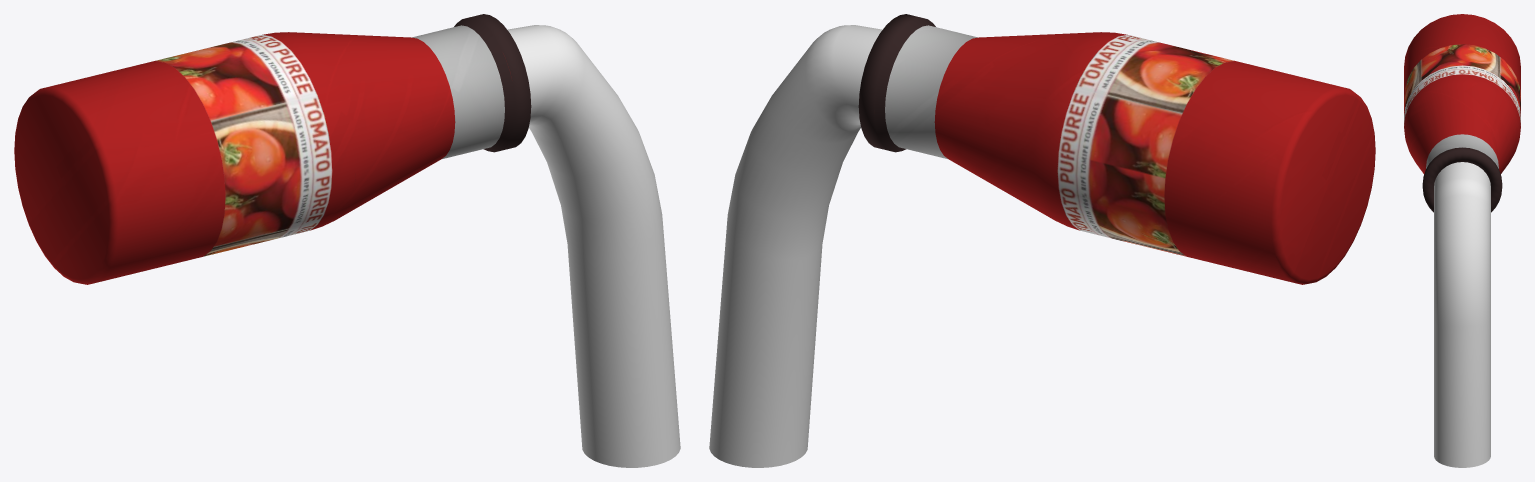
Rendered from tomatopureeWITHVFXMESH.fbx.
The picture shows the model from 3 angles, left to right: view 1: azimuth 30°, elevation 25°; view 2: azimuth 150°, elevation 25°; view 3: azimuth 270°, elevation 25°; orthographic projection. The views are drawn at different scales.
Parts seen in each view (by area): view 1: Cylinder, Cylinder.004; view 2: Cylinder, Cylinder.004; view 3: Cylinder, Cylinder.004.
Boxes of the visible parts, x1,y1,x2,y2 form: Cylinder: (14,14,531,284); Cylinder.004: (507,25,680,467); Cylinder: (858,14,1375,284); Cylinder.004: (709,25,882,467); Cylinder: (1404,14,1520,212); Cylinder.004: (1434,162,1490,467).
Bounding box in the file's own units: 99.67 × 76.35 × 28.59.
